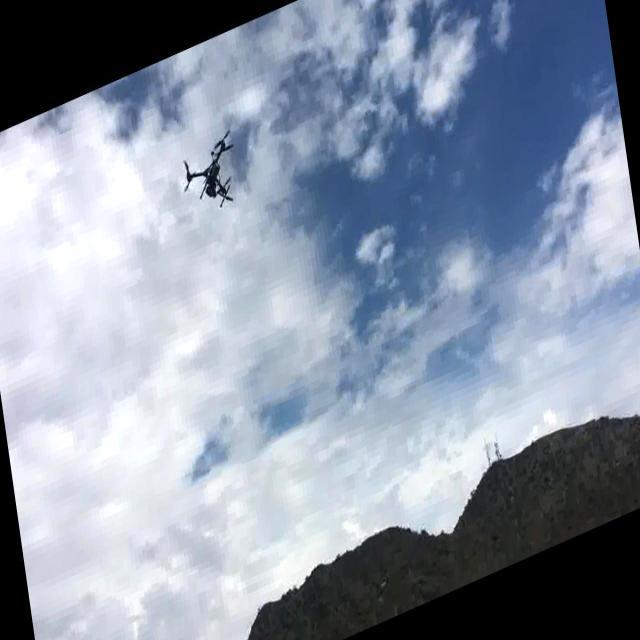drone: (180, 126, 242, 222)
